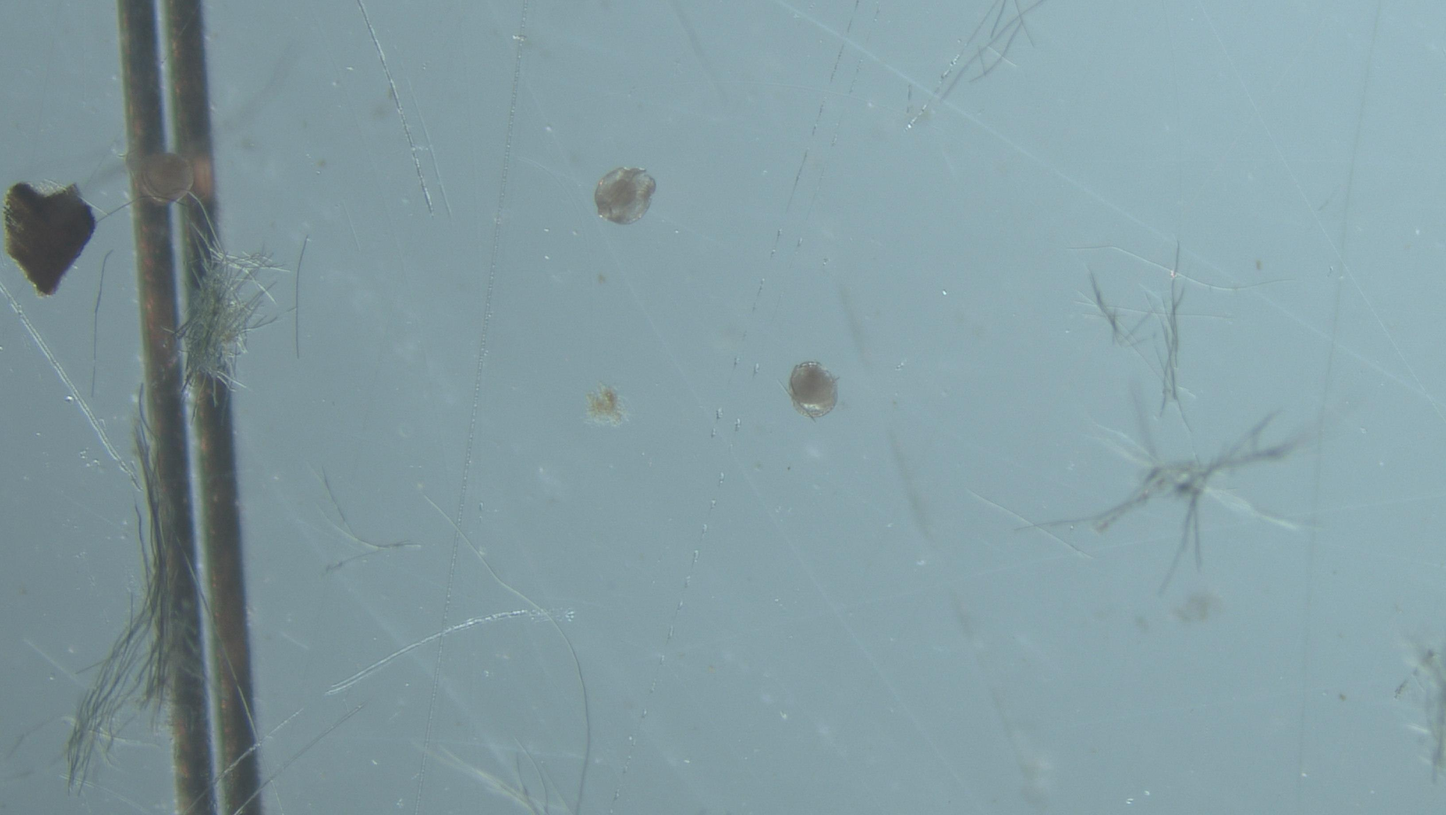live: (594, 167, 657, 225), (133, 153, 194, 204), (786, 361, 837, 420)
